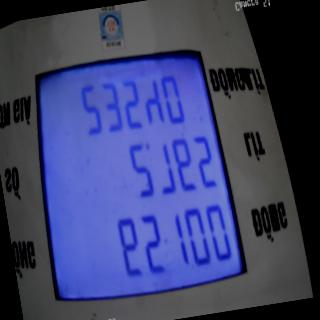screen: (16, 34, 255, 320)
